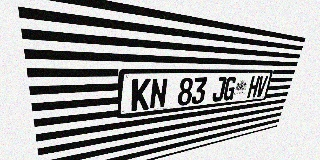3: (191, 77, 207, 104)
8: (177, 77, 194, 106)
G: (222, 76, 237, 101)
H: (247, 76, 260, 98)
J: (211, 77, 227, 102)
K: (131, 78, 151, 111)
N: (149, 78, 168, 109)
V: (255, 76, 268, 97)
